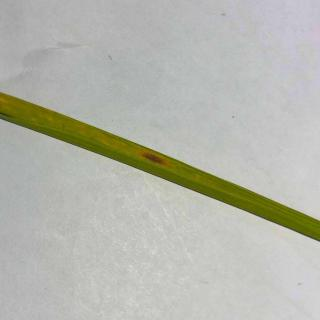bercak-Cokelat: (137, 145, 172, 171)
